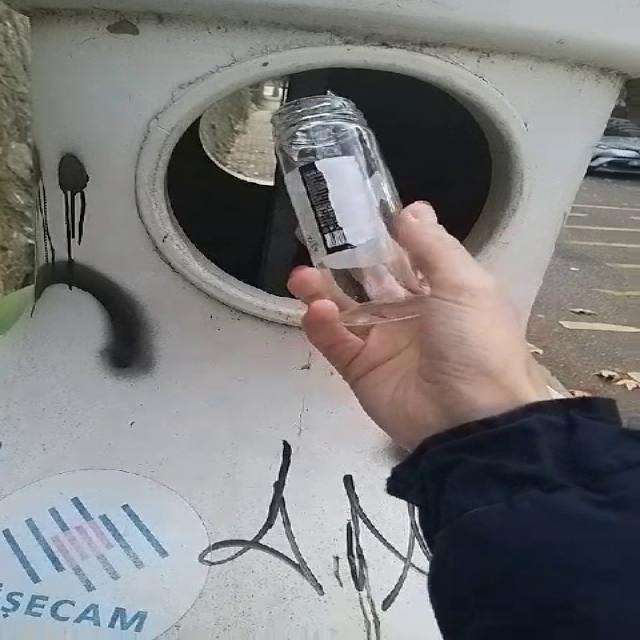Glass: (272, 92, 429, 330)
